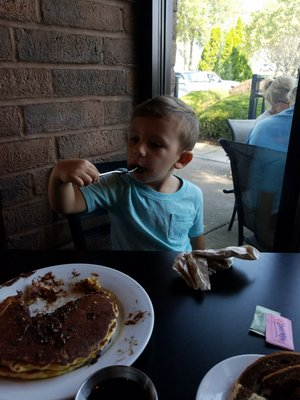pizza: (73, 365, 159, 400)
